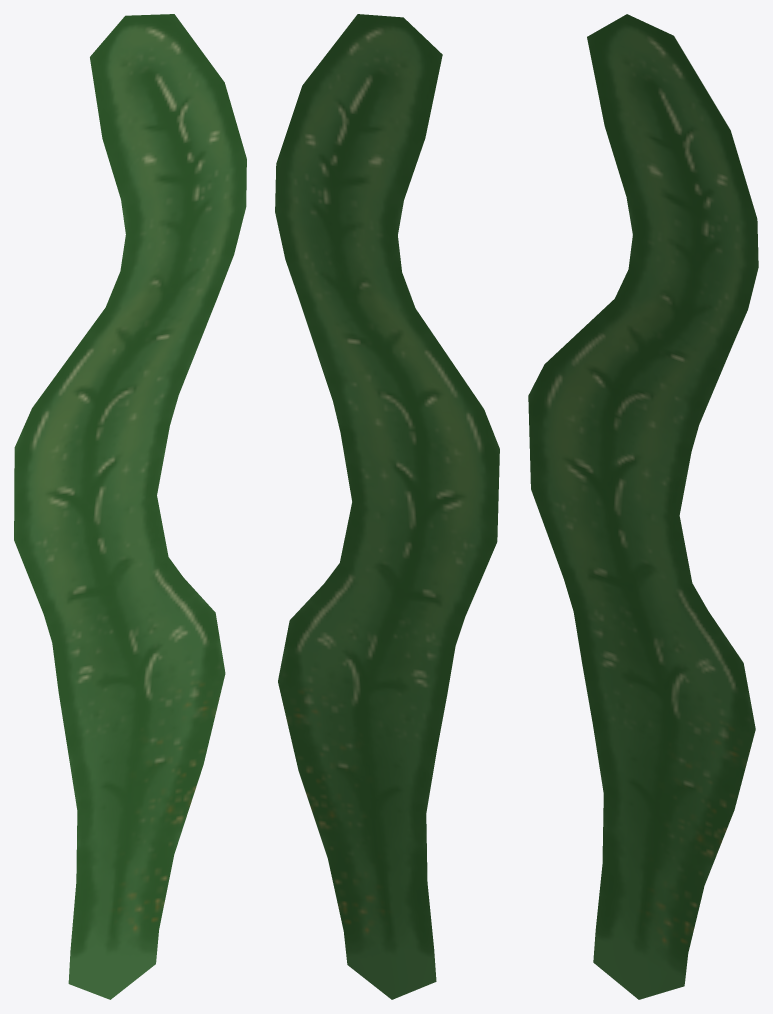
The model's file is Seaweed_Green_002.fbx.
3 renders of one model, left to right at view 1: azimuth 30°, elevation 25°; view 2: azimuth 150°, elevation 25°; view 3: azimuth 330°, elevation 25°, orthographic. The views are drawn at different scales.
Parts seen in each view (by area): view 1: Seaweed_Green_002; view 2: Seaweed_Green_002; view 3: Seaweed_Green_002.
Part boxes in pixels (left/top/right/bottom): Seaweed_Green_002: left=14, top=14, right=246, bottom=999; Seaweed_Green_002: left=275, top=14, right=499, bottom=999; Seaweed_Green_002: left=528, top=14, right=758, bottom=999.
Size of the model in its own units: 8.94 by 36.79 by 1.12.
